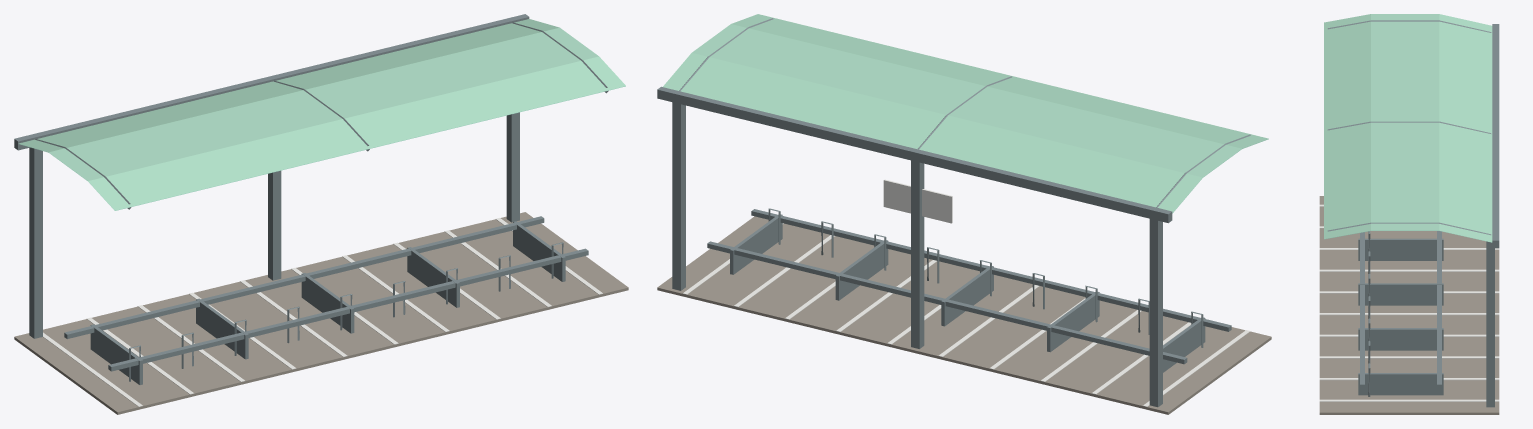
File: tb_bicycle_shelter_01.fbx
The picture shows the model from 3 angles, left to right: view 1: azimuth 30°, elevation 25°; view 2: azimuth 150°, elevation 25°; view 3: azimuth 270°, elevation 25°; orthographic projection. The views are drawn at different scales.
Visible parts, largest first — view 1: tb_bicycle_shelter_01; view 2: tb_bicycle_shelter_01; view 3: tb_bicycle_shelter_01.
Part boxes in pixels (left/top/right/bottom): tb_bicycle_shelter_01: left=14, top=14, right=628, bottom=414; tb_bicycle_shelter_01: left=657, top=14, right=1271, bottom=414; tb_bicycle_shelter_01: left=1319, top=14, right=1499, bottom=414.
Size of what is drawn, in the model's own units: 6 by 2.39 by 2.56.
3 materials, 2 textured.
